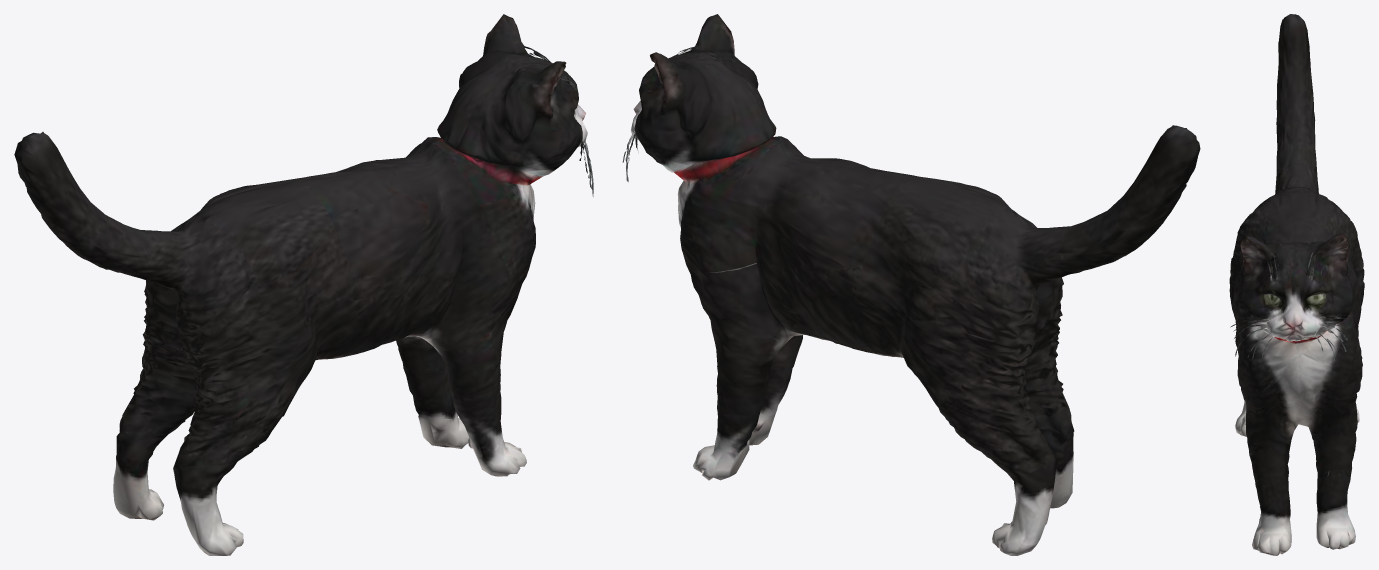
The model's file is JESSCAT-lo.glb.
3 views of the same model, side by side, from view 1: azimuth 30°, elevation 25°; view 2: azimuth 150°, elevation 25°; view 3: azimuth 270°, elevation 25° (orthographic). The views are drawn at different scales.
Parts seen in each view (by area): view 1: tripo_node_d6791906-fa98-44ae-a153-55eb6a9fd0e4; view 2: tripo_node_d6791906-fa98-44ae-a153-55eb6a9fd0e4; view 3: tripo_node_d6791906-fa98-44ae-a153-55eb6a9fd0e4.
Part boxes in pixels (x1=…): tripo_node_d6791906-fa98-44ae-a153-55eb6a9fd0e4: x1=14, y1=14, x2=593, y2=555; tripo_node_d6791906-fa98-44ae-a153-55eb6a9fd0e4: x1=622, y1=14, x2=1200, y2=555; tripo_node_d6791906-fa98-44ae-a153-55eb6a9fd0e4: x1=1229, y1=14, x2=1364, y2=555.
Size of the model in its own units: 1.35 by 0.9949 by 0.3432.
1 material, 1 textured.
